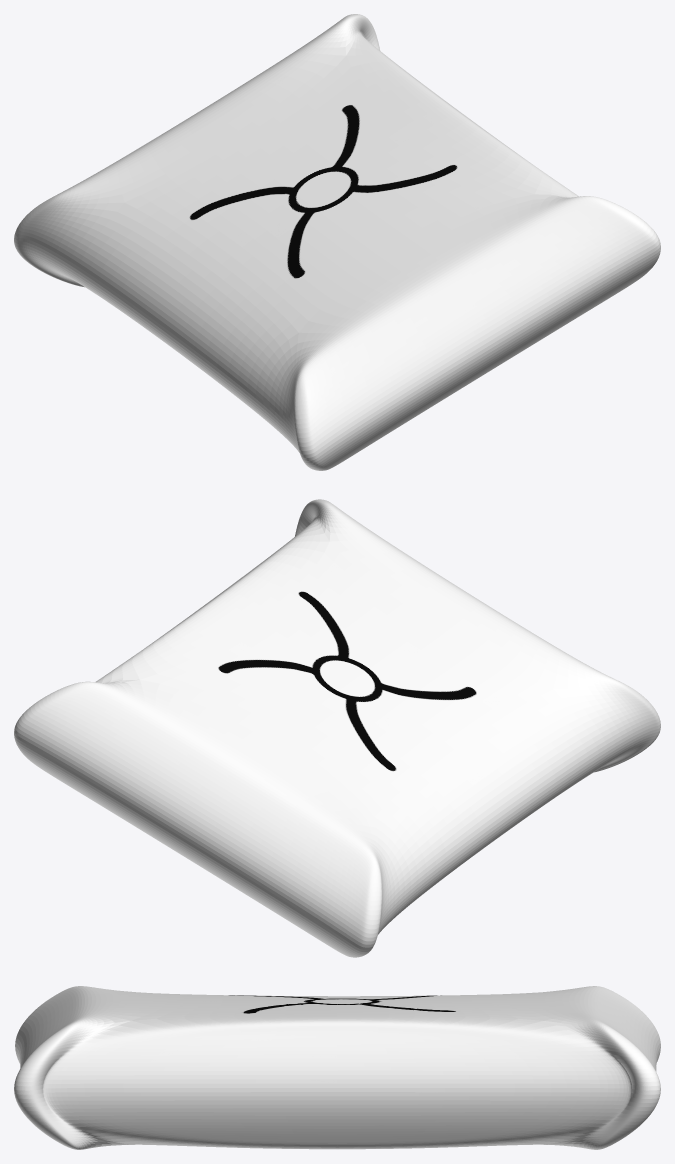
Rendered from almohada.obj.
3 views of the same model, one above another, from view 1: azimuth 30°, elevation 25°; view 2: azimuth 150°, elevation 25°; view 3: azimuth 270°, elevation 25° (orthographic). The views are drawn at different scales.
Visible parts, largest first — view 1: Mesh; view 2: Mesh; view 3: Mesh.
Boxes of the visible parts, x1=… form: Mesh: x1=14, y1=14, x2=660, y2=470; Mesh: x1=14, y1=499, x2=660, y2=957; Mesh: x1=14, y1=986, x2=660, y2=1149.
Size of the model in its own units: 1.86 by 1.01 by 2.65.
1 material, 1 textured.
